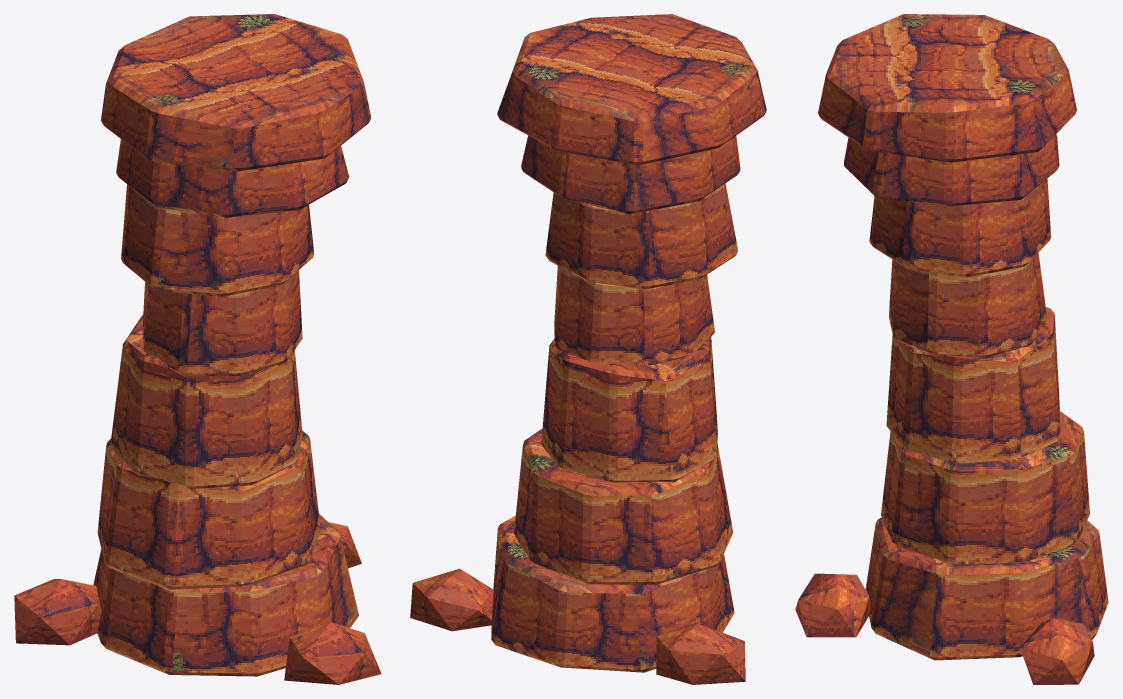
File: desert_hoodoo.glb
3 views of the same model, side by side, from view 1: azimuth 30°, elevation 25°; view 2: azimuth 150°, elevation 25°; view 3: azimuth 270°, elevation 25° (orthographic). The views are drawn at different scales.
Parts seen in each view (by area): view 1: Hoodoo; view 2: Hoodoo; view 3: Hoodoo.
Boxes of the visible parts, x1,y1,x2,y2 form: Hoodoo: [14, 14, 381, 684]; Hoodoo: [410, 14, 766, 684]; Hoodoo: [795, 14, 1108, 684].
Bounding box in the file's own units: 5.33 × 8.66 × 4.47.
Materials: 1 (1 with a texture image).
